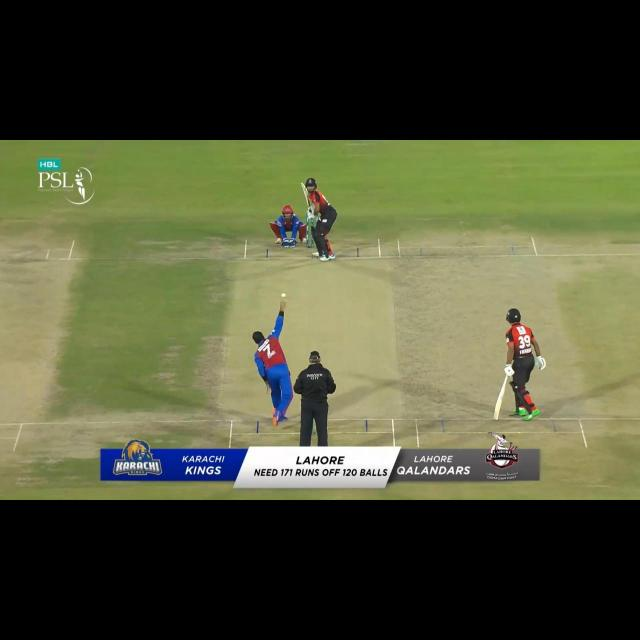bat: (491, 376, 508, 420), (299, 182, 313, 207)
toe: (492, 413, 500, 423), (299, 182, 306, 189)
